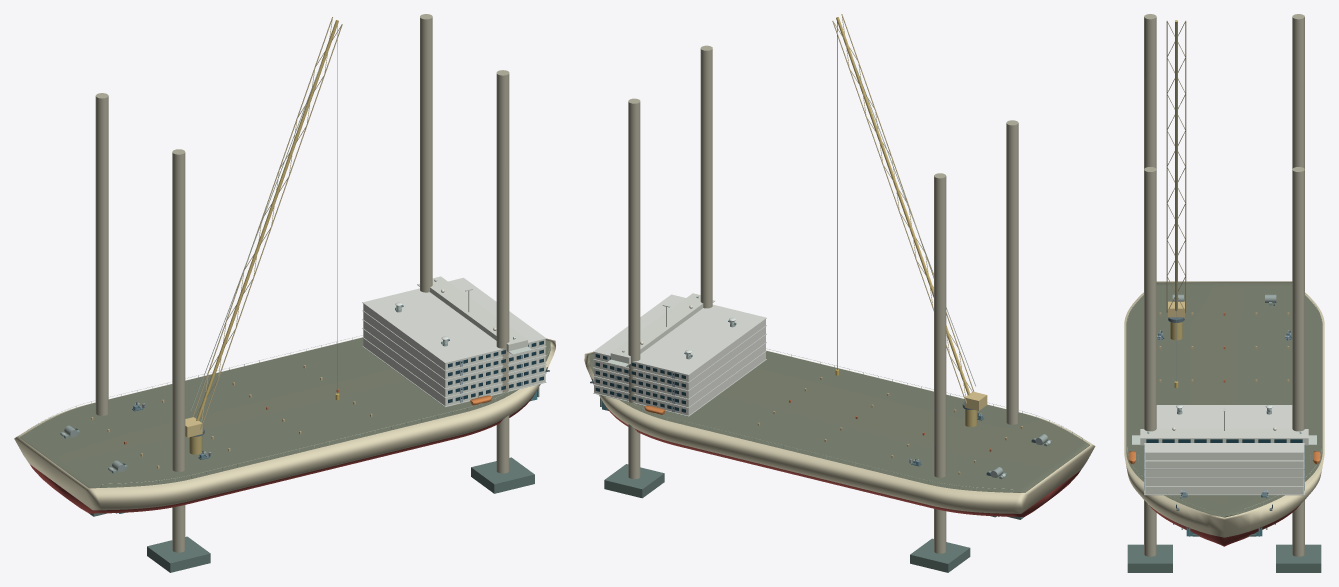
Rendered from voltaire.lod1.glb.
3 views of the same model, side by side, from view 1: azimuth 30°, elevation 25°; view 2: azimuth 150°, elevation 25°; view 3: azimuth 270°, elevation 25° (orthographic). The views are drawn at different scales.
Parts seen in each view (by area): view 1: voltaire.structure.decks.main-strength-deck.1, voltaire.structure.hull.outer-hull-shell.1, voltaire.accommodation.superstructure.superstructure-weather, voltaire.cargo.jacking.jack-up-leg-32-1.2, voltaire.cargo.jacking.jack-up-leg-32-1.4, voltaire.cargo.jacking.jack-up-leg-32-1.1, voltaire.cargo.jacking.jack-up-leg-32-1.3, voltaire.navigation.bridge.wheelhouse.1, voltaire.structure.hull.antifouling-underwater-shell.1, voltaire.cargo.installation-crane.installation-crane-main-bo, voltaire.cargo.jacking.spudcan-32-1.2, voltaire.cargo.jacking.spudcan-32-1.4 (+6 smaller); view 2: voltaire.structure.decks.main-strength-deck.1, voltaire.structure.hull.outer-hull-shell.1, voltaire.accommodation.superstructure.superstructure-weather, voltaire.cargo.jacking.jack-up-leg-32-1.1, voltaire.cargo.jacking.jack-up-leg-32-1.3, voltaire.cargo.jacking.jack-up-leg-32-1.2, voltaire.cargo.jacking.jack-up-leg-32-1.4, voltaire.navigation.bridge.wheelhouse.1, voltaire.structure.hull.antifouling-underwater-shell.1, voltaire.cargo.installation-crane.installation-crane-main-bo, voltaire.cargo.jacking.spudcan-32-1.3, voltaire.cargo.jacking.spudcan-32-1.1 (+5 smaller); view 3: voltaire.structure.decks.main-strength-deck.1, voltaire.structure.hull.outer-hull-shell.1, voltaire.accommodation.superstructure.superstructure-weather, voltaire.cargo.jacking.jack-up-leg-32-1.3, voltaire.cargo.jacking.jack-up-leg-32-1.4, voltaire.navigation.bridge.wheelhouse.1, voltaire.cargo.jacking.jack-up-leg-32-1.1, voltaire.cargo.jacking.jack-up-leg-32-1.2, voltaire.accommodation.superstructure.deck-3-enclosure.1, voltaire.accommodation.superstructure.deck-1-enclosure.1, voltaire.accommodation.superstructure.deck-2-enclosure.1, voltaire.accommodation.superstructure.deck-4-enclosure.1 (+10 smaller).
Part boxes in pixels (x1,y1,x2,y2): voltaire.structure.decks.main-strength-deck.1: [20, 337, 550, 488]; voltaire.structure.hull.outer-hull-shell.1: [14, 338, 555, 510]; voltaire.accommodation.superstructure.superstructure-weather: [362, 277, 546, 363]; voltaire.cargo.jacking.jack-up-leg-32-1.2: [172, 149, 185, 552]; voltaire.cargo.jacking.jack-up-leg-32-1.4: [496, 70, 509, 473]; voltaire.cargo.jacking.jack-up-leg-32-1.1: [95, 93, 108, 415]; voltaire.cargo.jacking.jack-up-leg-32-1.3: [420, 14, 432, 292]; voltaire.navigation.bridge.wheelhouse.1: [430, 276, 527, 352]; voltaire.structure.hull.antifouling-underwater-shell.1: [30, 394, 534, 513]; voltaire.cargo.installation-crane.installation-crane-main-bo: [196, 20, 338, 420]; voltaire.cargo.jacking.spudcan-32-1.2: [147, 536, 210, 572]; voltaire.cargo.jacking.spudcan-32-1.4: [471, 457, 534, 493]; voltaire.structure.decks.main-strength-deck.1: [589, 351, 1089, 492]; voltaire.structure.hull.outer-hull-shell.1: [584, 351, 1095, 513]; voltaire.accommodation.superstructure.superstructure-weather: [593, 294, 766, 375]; voltaire.cargo.jacking.jack-up-leg-32-1.1: [934, 173, 946, 553]; voltaire.cargo.jacking.jack-up-leg-32-1.3: [628, 98, 640, 479]; voltaire.cargo.jacking.jack-up-leg-32-1.2: [1006, 120, 1018, 424]; voltaire.cargo.jacking.jack-up-leg-32-1.4: [700, 45, 712, 308]; voltaire.navigation.bridge.wheelhouse.1: [610, 293, 703, 364]; voltaire.structure.hull.antifouling-underwater-shell.1: [605, 405, 1080, 516]; voltaire.cargo.installation-crane.installation-crane-main-bo: [836, 17, 970, 395]; voltaire.cargo.jacking.spudcan-32-1.3: [604, 464, 664, 498]; voltaire.cargo.jacking.spudcan-32-1.1: [910, 538, 970, 572]; voltaire.structure.decks.main-strength-deck.1: [1126, 282, 1322, 517]; voltaire.structure.hull.outer-hull-shell.1: [1124, 281, 1324, 537]; voltaire.accommodation.superstructure.superstructure-weather: [1144, 405, 1304, 452]; voltaire.cargo.jacking.jack-up-leg-32-1.3: [1292, 167, 1304, 556]; voltaire.cargo.jacking.jack-up-leg-32-1.4: [1144, 167, 1156, 556]; voltaire.navigation.bridge.wheelhouse.1: [1140, 429, 1308, 445]; voltaire.cargo.jacking.jack-up-leg-32-1.1: [1292, 14, 1304, 169]; voltaire.cargo.jacking.jack-up-leg-32-1.2: [1144, 14, 1156, 169]; voltaire.accommodation.superstructure.deck-3-enclosure.1: [1145, 469, 1303, 477]; voltaire.accommodation.superstructure.deck-1-enclosure.1: [1145, 486, 1303, 494]; voltaire.accommodation.superstructure.deck-2-enclosure.1: [1145, 478, 1303, 485]; voltaire.accommodation.superstructure.deck-4-enclosure.1: [1145, 461, 1303, 468].
Bounding box in the file's own units: 169 × 156 × 60.
